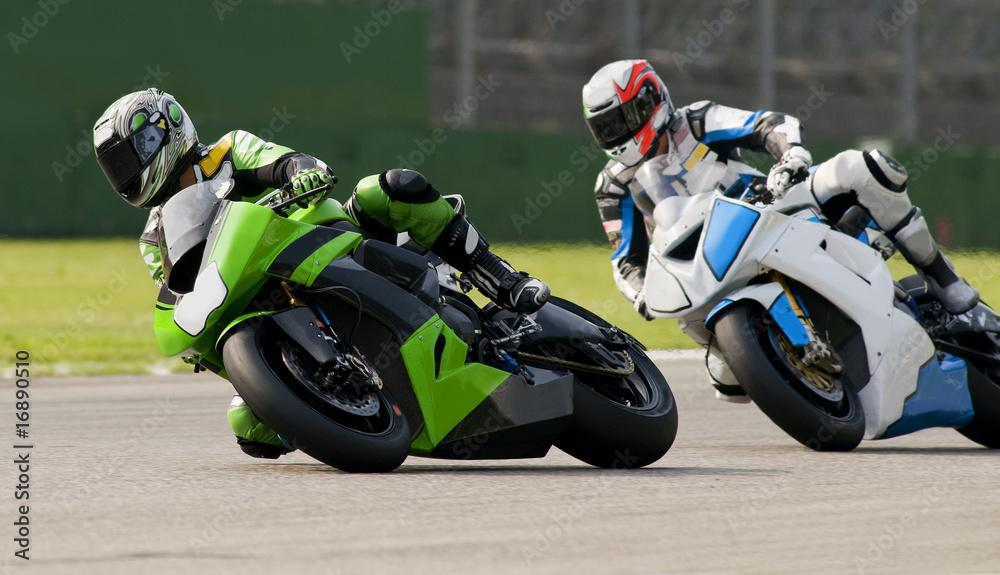helmet: (92, 86, 202, 211), (581, 57, 677, 169)
